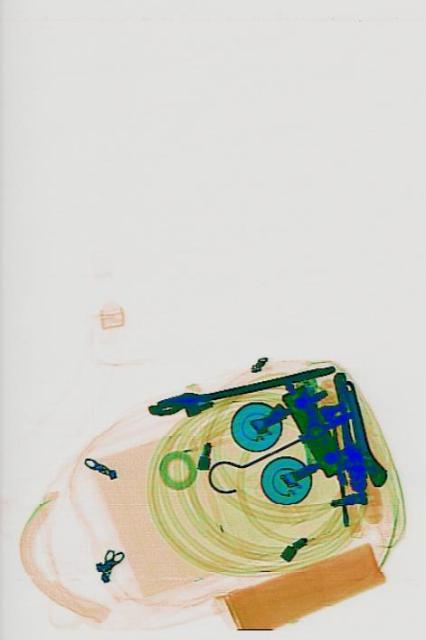Wrench: (145, 356, 333, 418), (333, 368, 387, 494)
